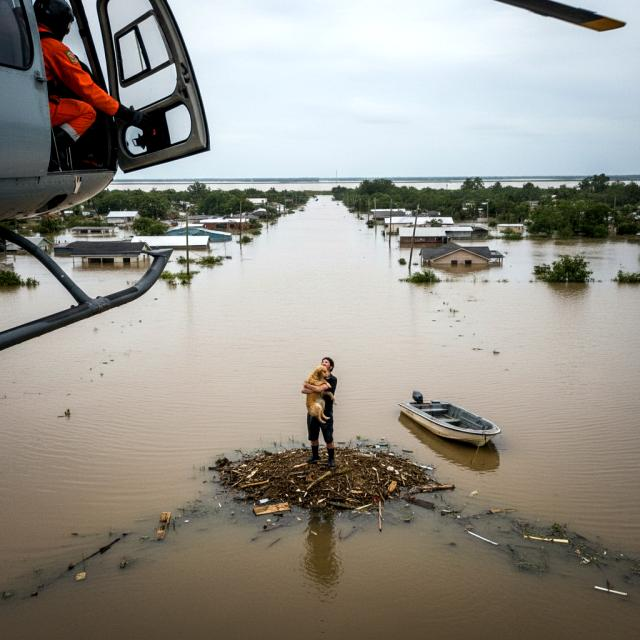civilian: (296, 346, 352, 472)
dog: (304, 359, 334, 428)
rescuer: (27, 1, 159, 179)
